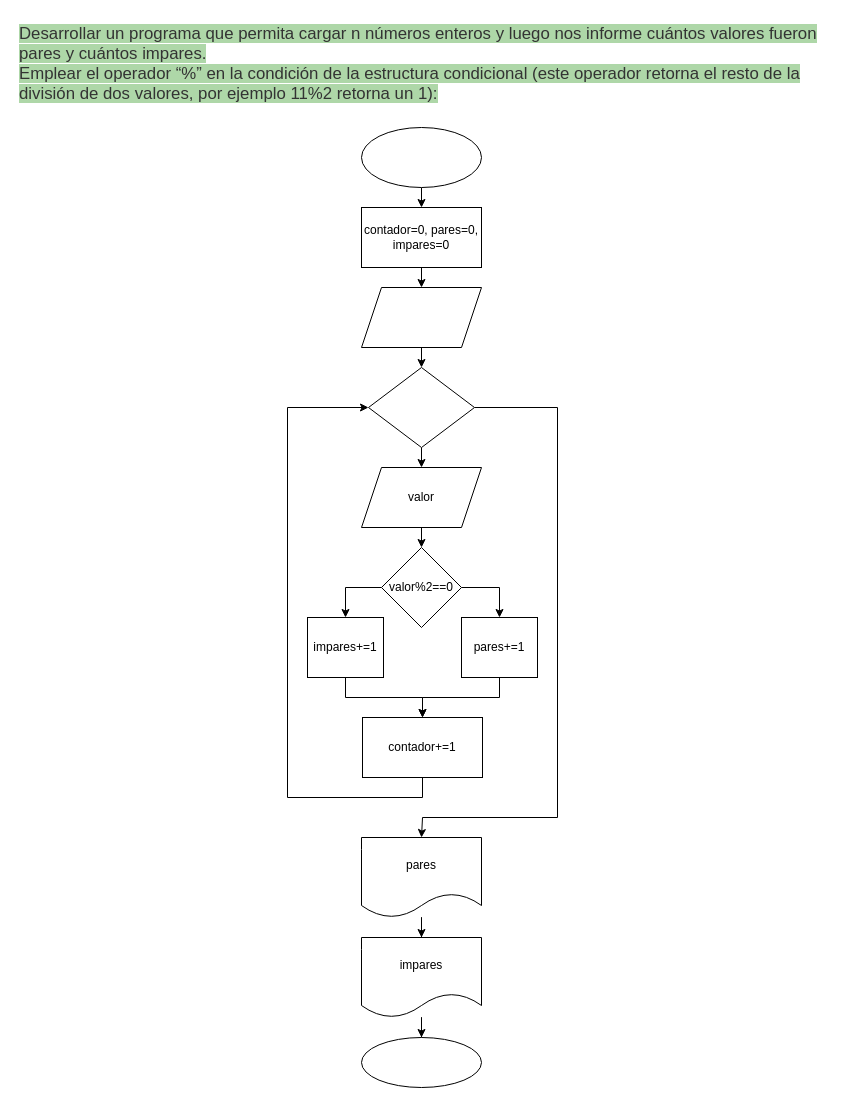
Some shapes in this 844 by 1105 pixel diagram are drawn without their labels. Each missing label, with the box of its shape:
contador< numCargar: (368, 366, 474, 448)
fin: (360, 1036, 482, 1088)
inicio: (360, 126, 482, 188)
numCargar: (360, 286, 482, 348)
